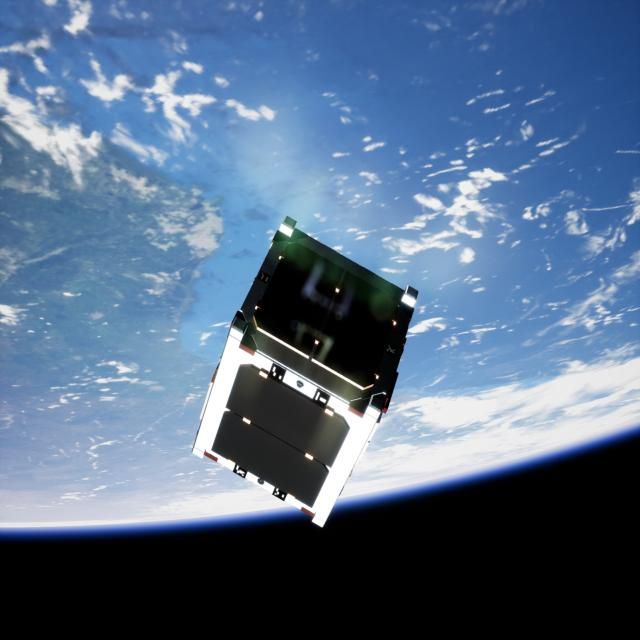satellite: (188, 213, 424, 528)
